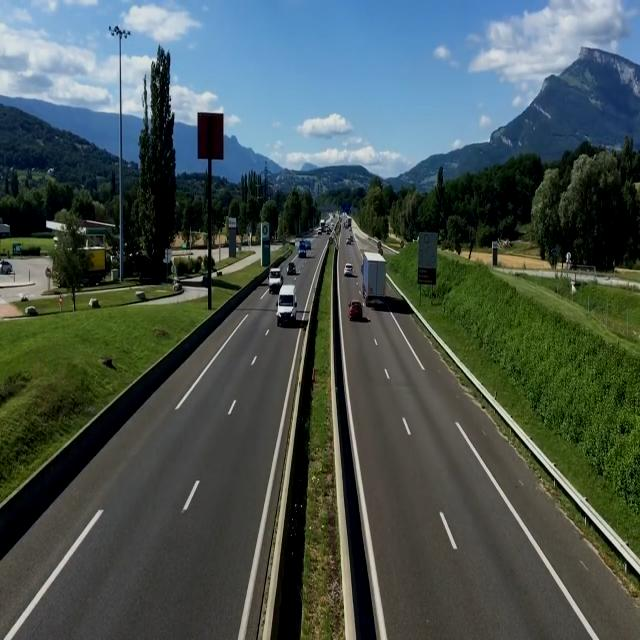Car: (347, 299, 363, 321), (0, 260, 13, 274), (344, 262, 354, 276), (287, 262, 296, 274)
Truck: (360, 250, 388, 306), (298, 240, 307, 259)
Van: (275, 285, 299, 327)
